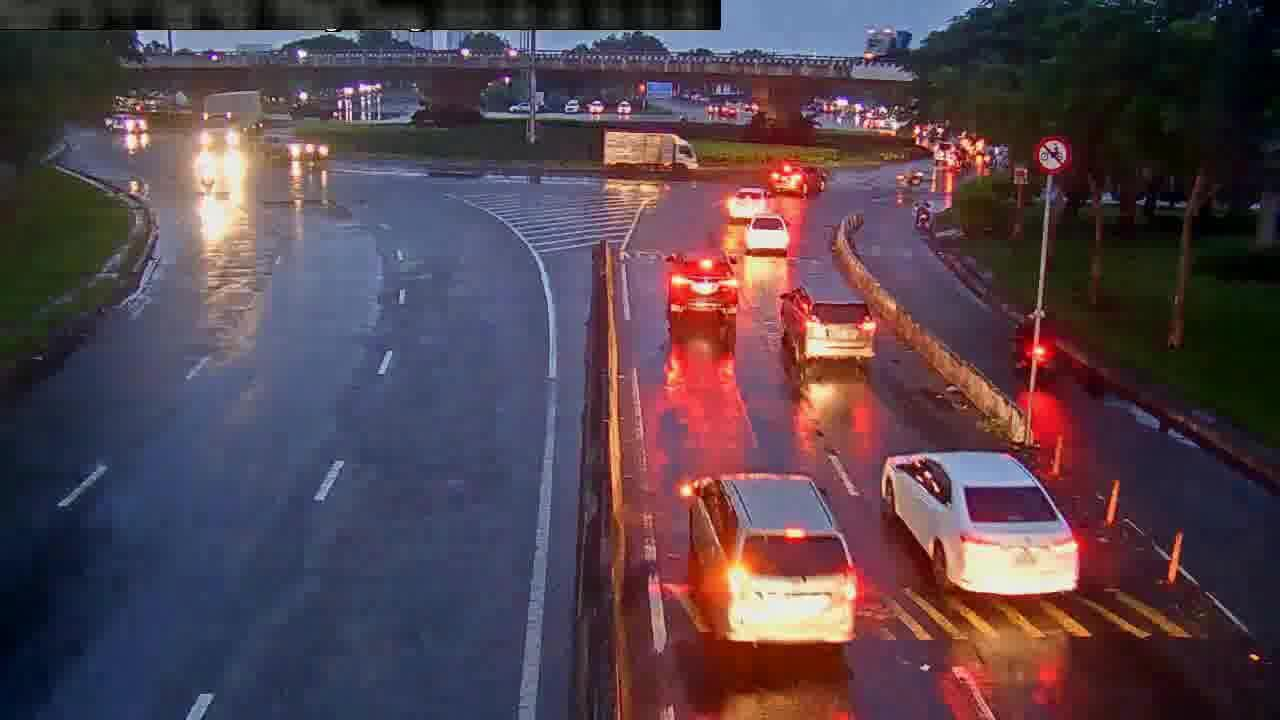8: (597, 123, 698, 175)
container: (881, 448, 1080, 598), (687, 473, 855, 648), (775, 286, 874, 367), (668, 249, 742, 334), (769, 157, 826, 198), (743, 210, 788, 257), (726, 183, 779, 222)
motorbike: (1017, 304, 1057, 368)
